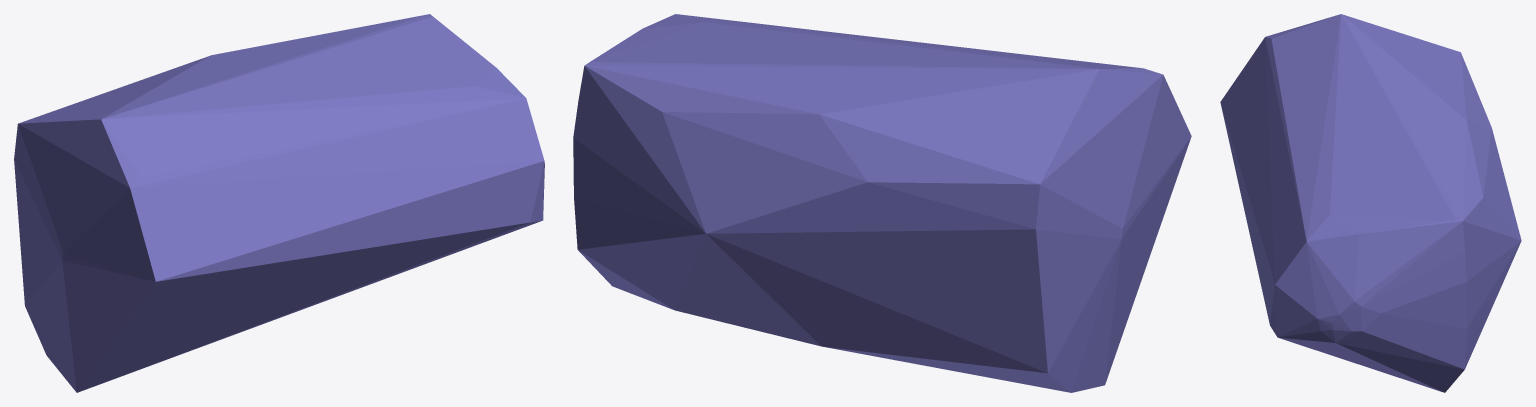
The model's file is drivetrain_transmission_auto_a01.glb.
The picture shows the model from 3 angles, left to right: view 1: azimuth 30°, elevation 25°; view 2: azimuth 150°, elevation 25°; view 3: azimuth 270°, elevation 25°; orthographic projection. The views are drawn at different scales.
Parts seen in each view (by area): view 1: geometry_0; view 2: geometry_0; view 3: geometry_0.
Boxes of the visible parts, <box> form: geometry_0: <box>14,14,544,392</box>; geometry_0: <box>573,14,1191,392</box>; geometry_0: <box>1220,14,1521,392</box>.
Bounding box in the file's own units: 0.48 × 0.2736 × 0.3093.
